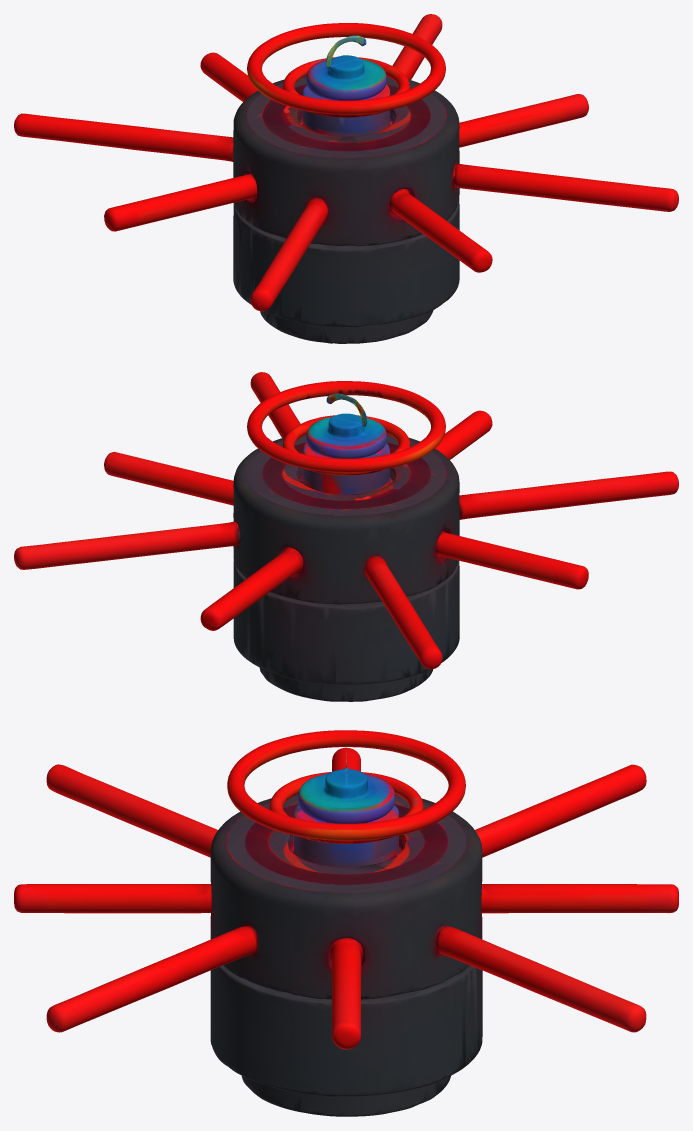
Rendered from obstacle_spinninglaser.glb.
3 renders of one model, top to bottom at view 1: azimuth 30°, elevation 25°; view 2: azimuth 150°, elevation 25°; view 3: azimuth 270°, elevation 25°, orthographic. The views are drawn at different scales.
Visible parts, largest first — view 1: model; view 2: model; view 3: model.
Part boxes in pixels (bbox=[...]): model: bbox=[14, 14, 678, 343]; model: bbox=[14, 372, 678, 701]; model: bbox=[14, 730, 678, 1116].
Size of the model in its own units: 1.9 by 1.03 by 1.9.
1 material, 1 textured.
